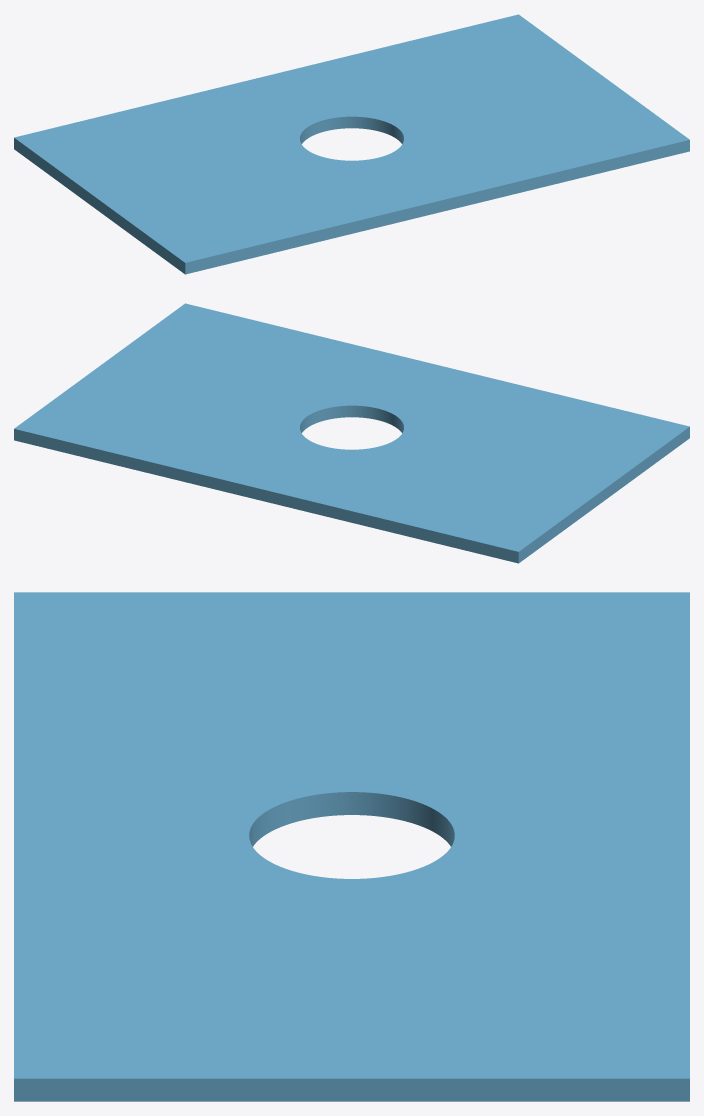
The picture shows the model from 3 angles, top to bottom: view 1: azimuth 30°, elevation 25°; view 2: azimuth 150°, elevation 25°; view 3: azimuth 270°, elevation 25°; orthographic projection. The views are drawn at different scales.
Visible parts, largest first — view 1: G11_body; view 2: G11_body; view 3: G11_body.
Boxes of the visible parts, x1=… form: G11_body: x1=14, y1=14, x2=689, y2=274; G11_body: x1=14, y1=303, x2=689, y2=563; G11_body: x1=14, y1=592, x2=689, y2=1101.
Size of the model in its own units: 121 by 2.66 by 70.98.
